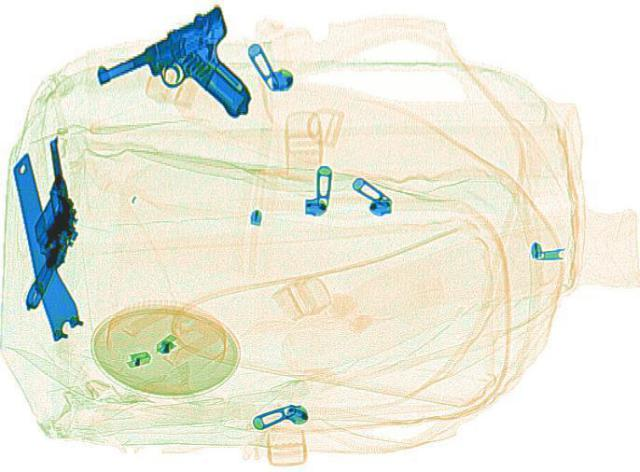Gun: (77, 3, 299, 148), (0, 136, 88, 306)
